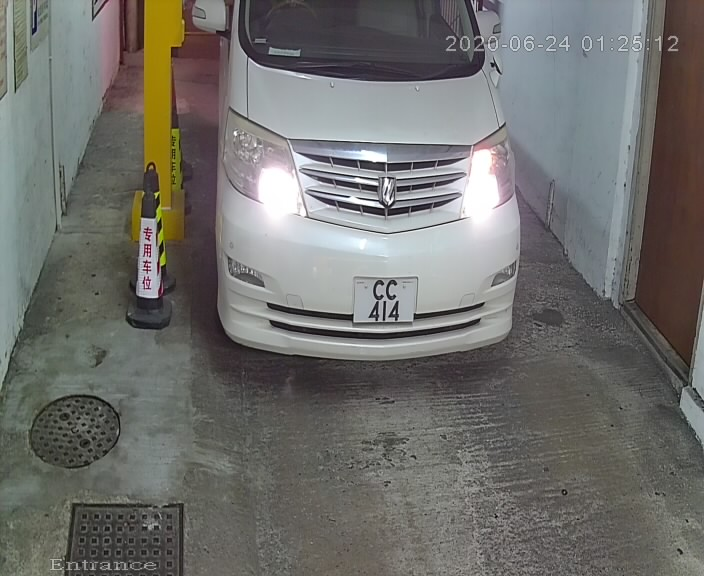privatecar: (183, 1, 531, 364)
